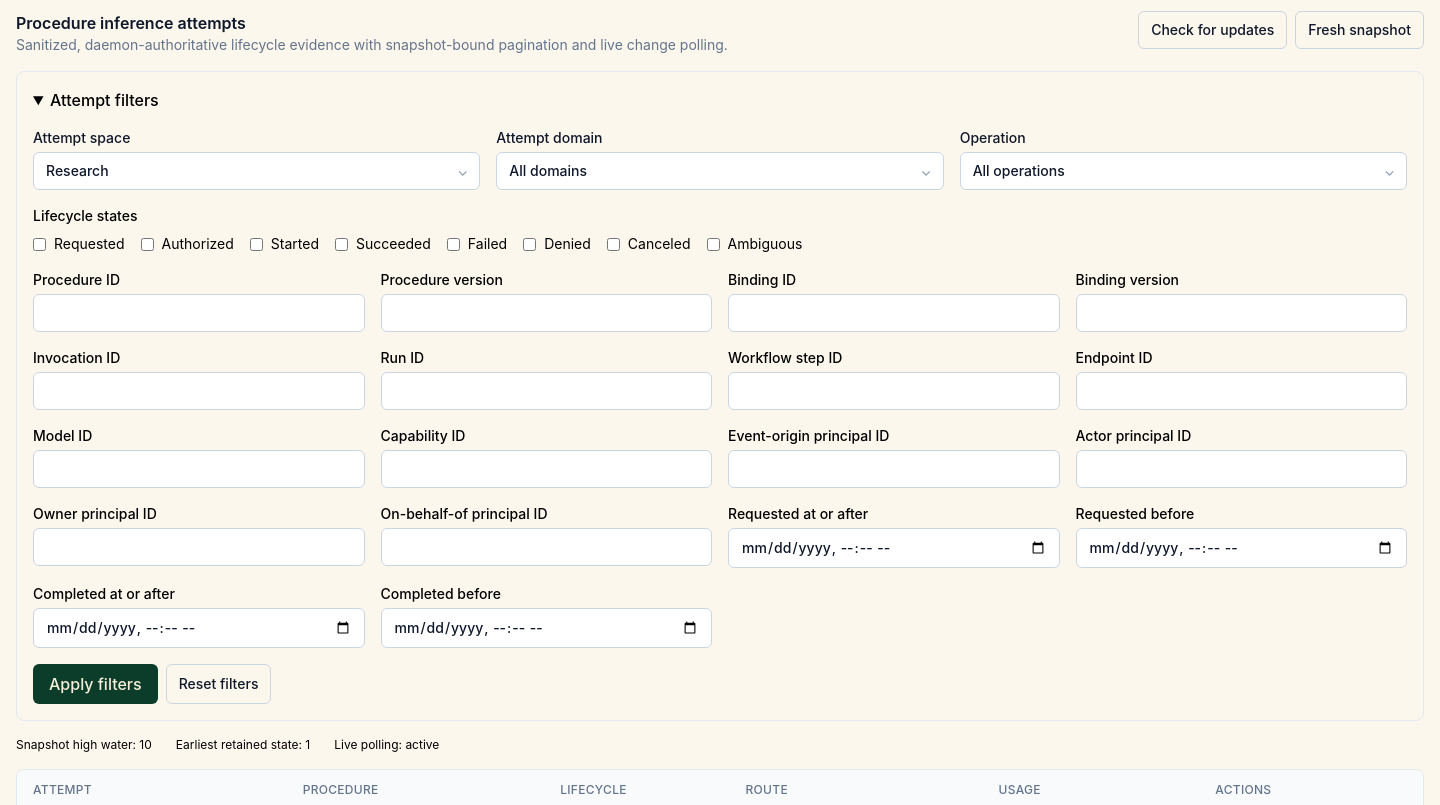
rebuilds from a fresh snapshot when the daemon reports a history gap
Click the button "Check for updates".
click(1213, 30)  # box [1138, 11, 1287, 49]
(page scrolled)
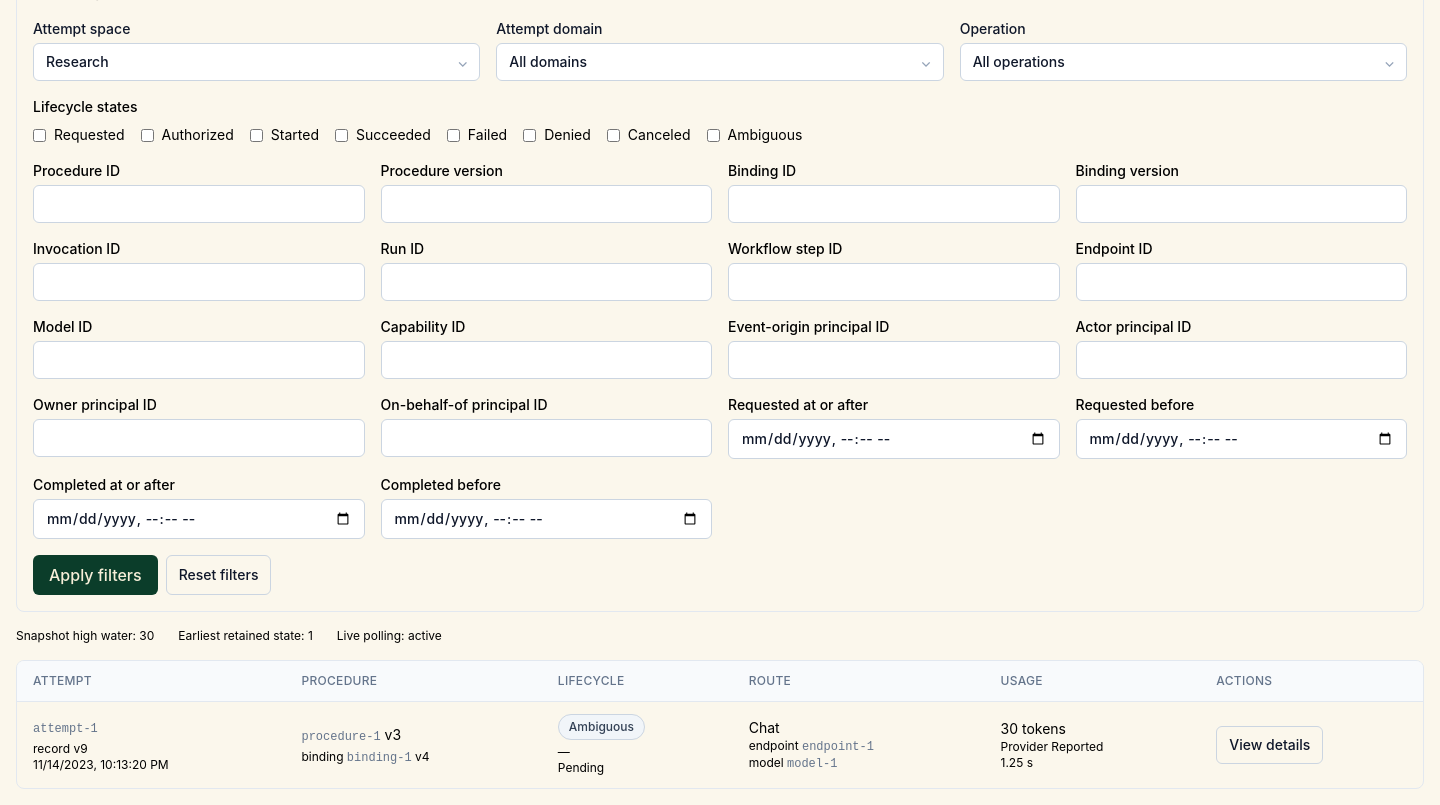
Check: the text titled "ambiguous" is shown, box [558, 714, 645, 740]
